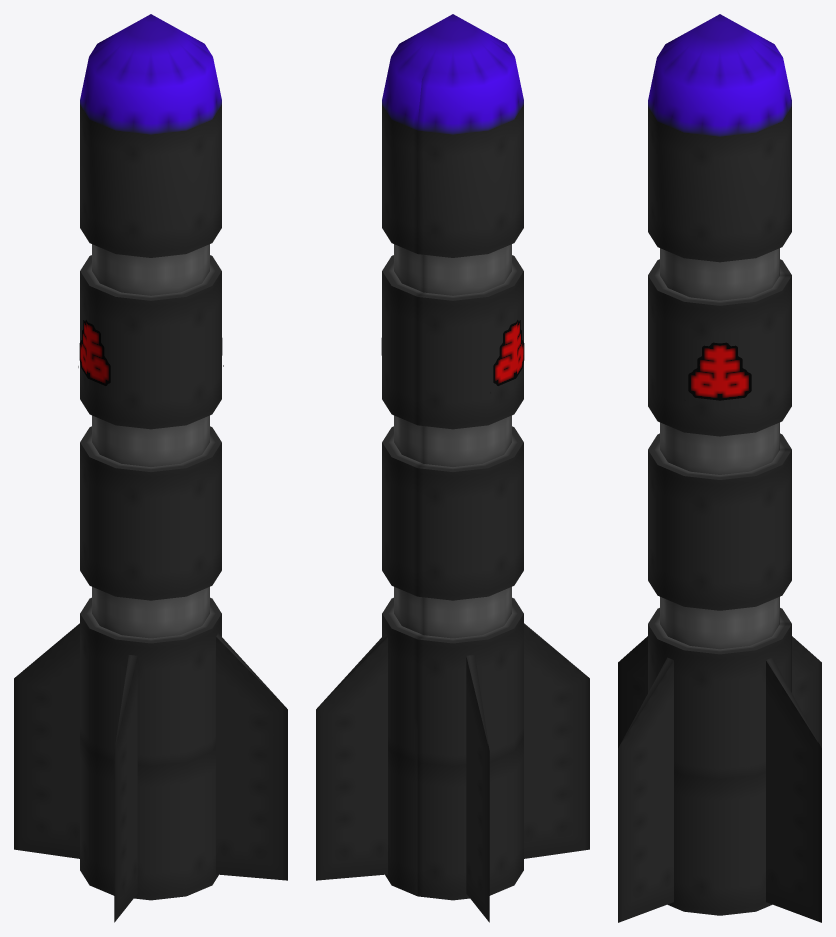
Rendered from missile_bhole.obj.
3 renders of one model, left to right at view 1: azimuth 30°, elevation 25°; view 2: azimuth 150°, elevation 25°; view 3: azimuth 270°, elevation 25°, orthographic.
Visible parts, largest first — view 1: missile_bhole; view 2: missile_bhole; view 3: missile_bhole.
Boxes of the visible parts, x1,y1,x2,y2 form: missile_bhole: [14, 14, 287, 922]; missile_bhole: [316, 14, 589, 922]; missile_bhole: [618, 14, 821, 922].
Bounding box in the file's own units: 1.06 × 5 × 1.06.
